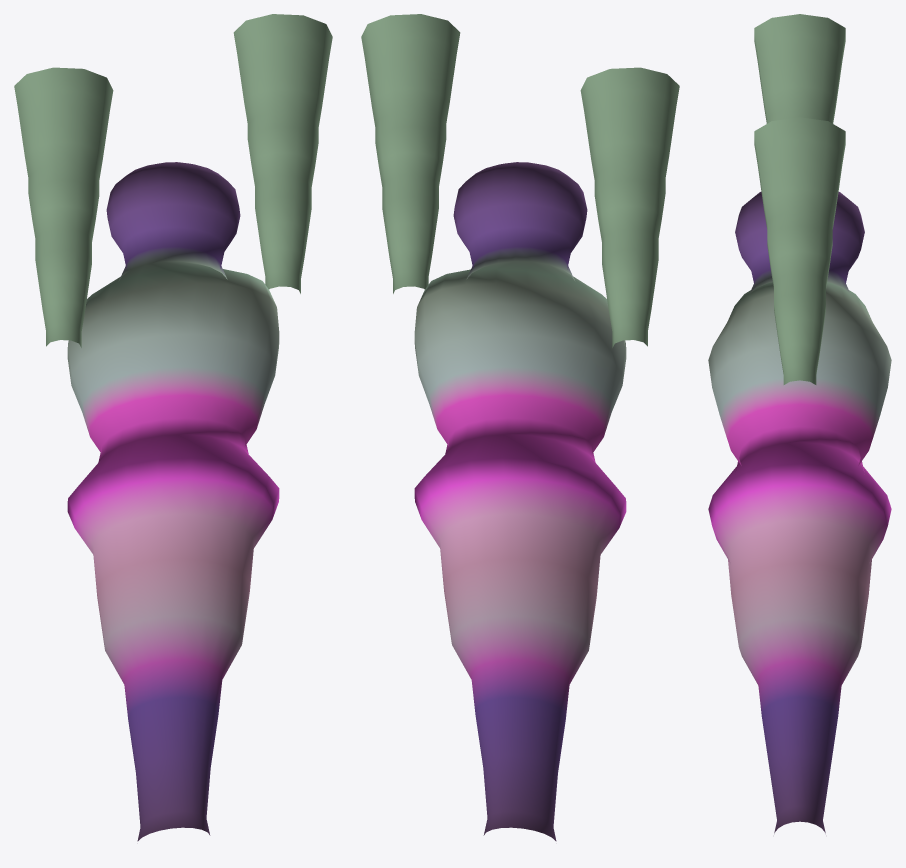
File: avatar-female.glb
3 views of the same model, side by side, from view 1: azimuth 30°, elevation 25°; view 2: azimuth 150°, elevation 25°; view 3: azimuth 270°, elevation 25° (orthographic). The views are drawn at different scales.
Visible parts, largest first — view 1: BodyNode; view 2: BodyNode; view 3: BodyNode.
Part boxes in pixels (<box>): BodyNode: <box>14,14,332,841</box>; BodyNode: <box>361,14,679,841</box>; BodyNode: <box>708,14,891,833</box>.
Size of the model in its own units: 0.892 by 2.17 by 0.48.
